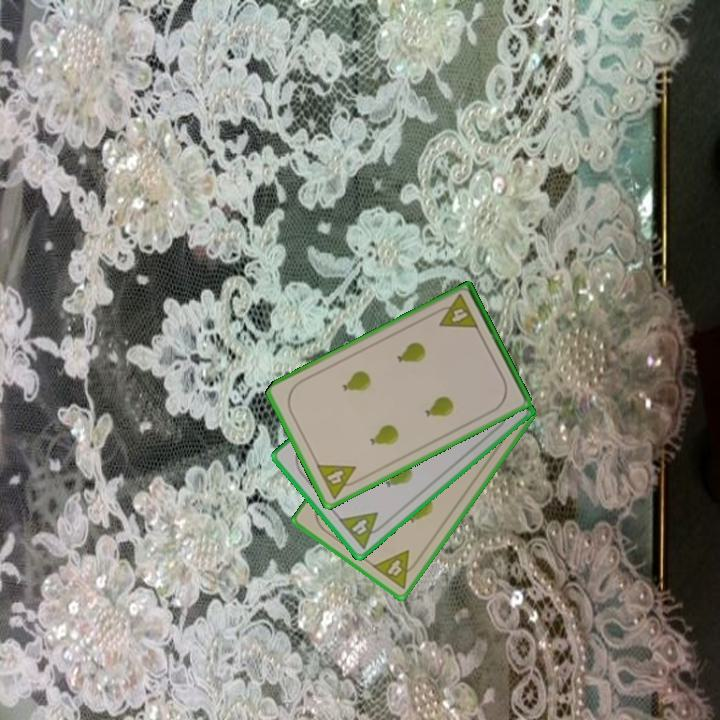4p: (369, 547, 423, 592), (335, 508, 389, 552), (313, 460, 365, 502), (431, 291, 481, 332)
